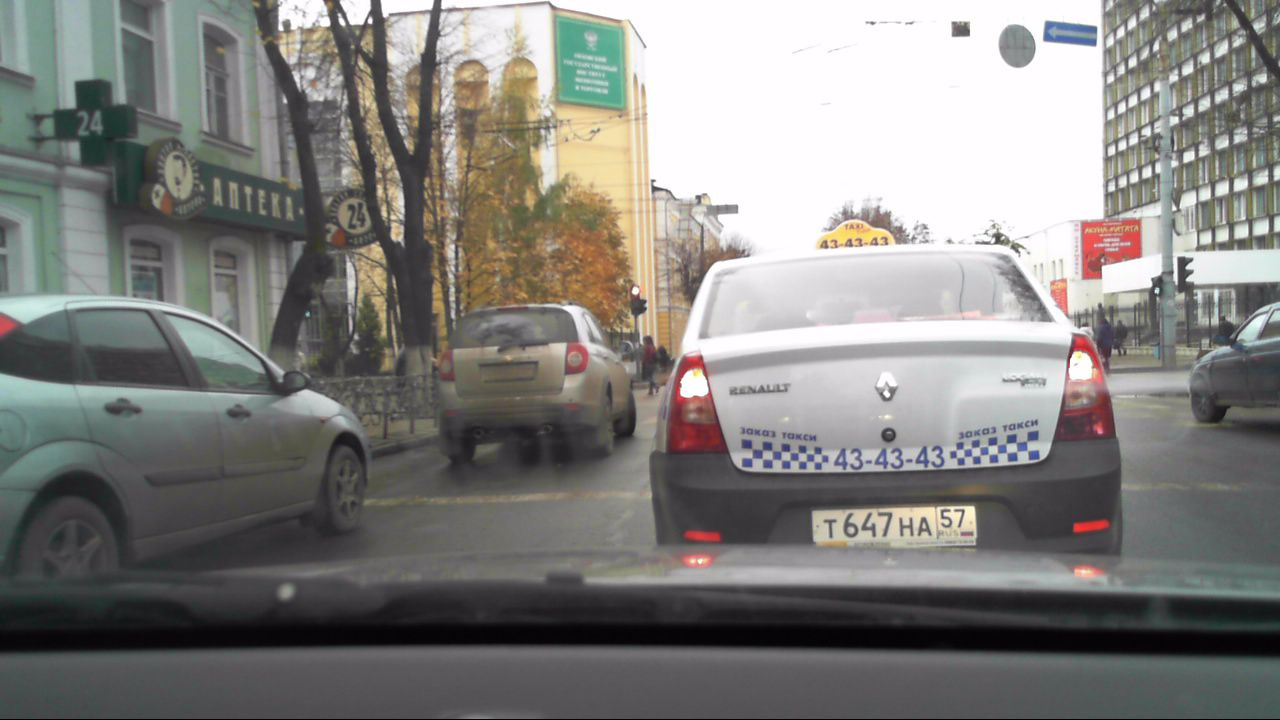One-Way Traffic: (1044, 20, 1097, 46)
